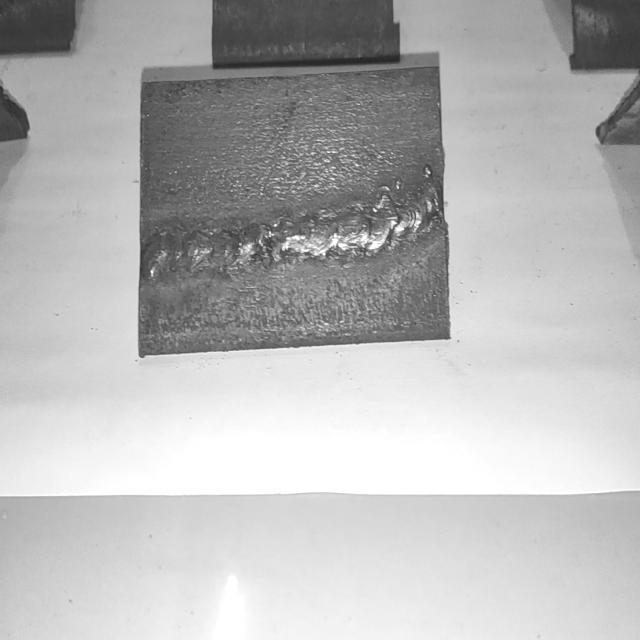Welding Line: (144, 183, 437, 280)
Workpiece: (135, 61, 445, 362)
